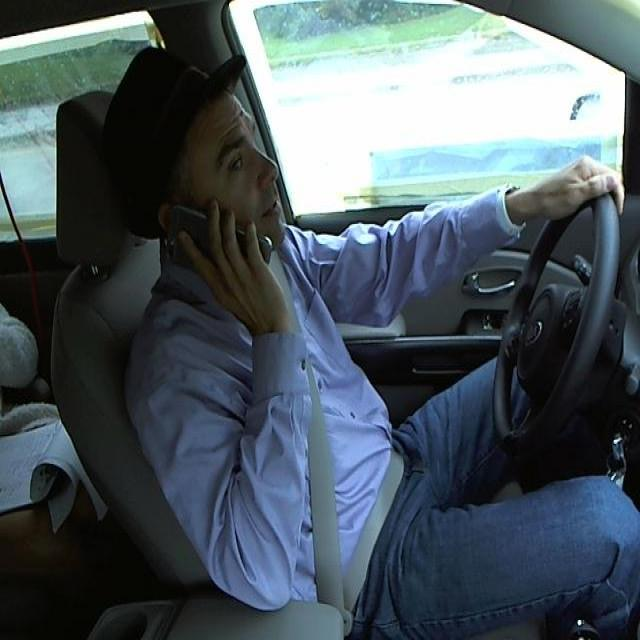using_phone: (98, 54, 313, 313)
